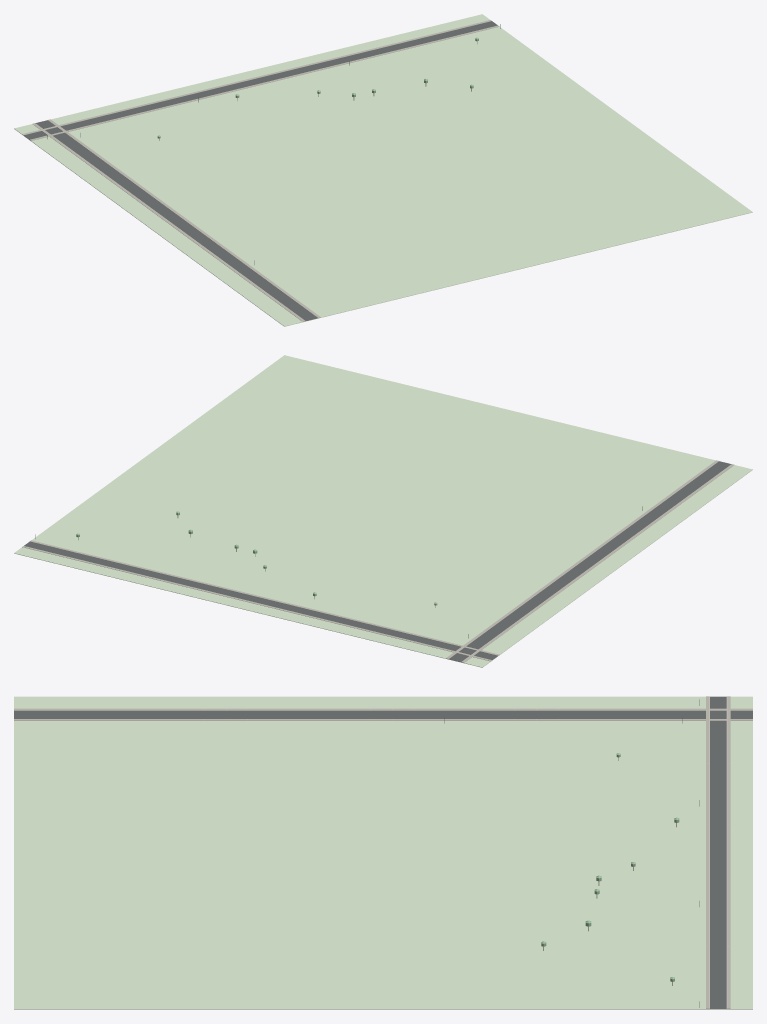
File: chunk_4_2_low.glb
3 renders of one model, top to bottom at view 1: azimuth 30°, elevation 25°; view 2: azimuth 150°, elevation 25°; view 3: azimuth 270°, elevation 25°, orthographic. The views are drawn at different scales.
Parts seen in each view (by area): view 1: city_grass, city_world_asphalt, city_world_sidewalk, city_curb; view 2: city_grass, city_world_asphalt, city_world_sidewalk, city_curb; view 3: city_grass, city_world_asphalt, city_world_sidewalk, city_curb.
Part boxes in pixels (<box>): city_grass: <box>14,14,752,326</box>; city_world_asphalt: <box>24,21,497,320</box>; city_world_sidewalk: <box>22,20,499,321</box>; city_curb: <box>23,21,495,320</box>; city_grass: <box>14,355,752,667</box>; city_world_asphalt: <box>24,461,731,661</box>; city_world_sidewalk: <box>22,460,734,662</box>; city_curb: <box>24,461,731,661</box>; city_grass: <box>14,696,752,1009</box>; city_world_asphalt: <box>14,696,752,1008</box>; city_world_sidewalk: <box>14,696,752,1008</box>; city_curb: <box>14,696,752,1008</box>.
Size of the model in its own units: 512 by 8.67 by 512.
